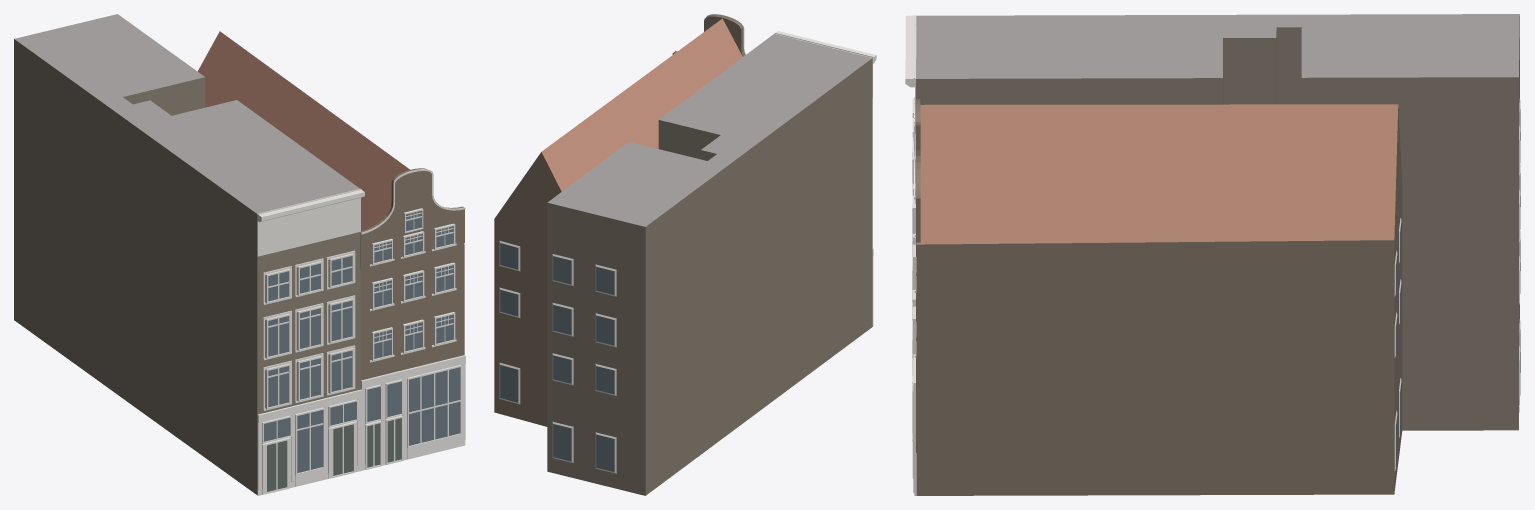
File: chunk-face-rapenburg-89-103-r1.glb
3 views of the same model, side by side, from view 1: azimuth 30°, elevation 25°; view 2: azimuth 150°, elevation 25°; view 3: azimuth 270°, elevation 25° (orthographic). The views are drawn at different scales.
Parts seen in each view (by area): view 1: face-rapenburg-89-103-r1; view 2: face-rapenburg-89-103-r1; view 3: face-rapenburg-89-103-r1.
Boxes of the visible parts, <box> form: face-rapenburg-89-103-r1: <box>14,14,465,495</box>; face-rapenburg-89-103-r1: <box>494,14,876,495</box>; face-rapenburg-89-103-r1: <box>905,14,1520,495</box>.
Size of the model in its own units: 11.43 by 14.94 by 23.08.
